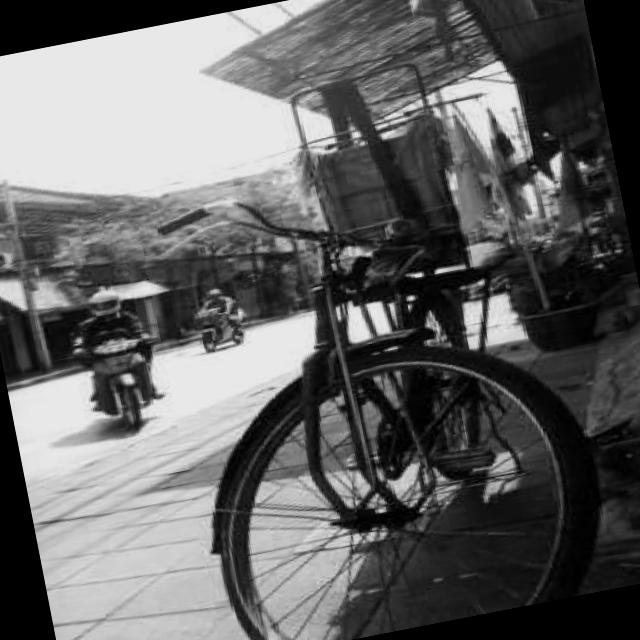Vehicle: (78, 336, 170, 432), (195, 302, 252, 354)
